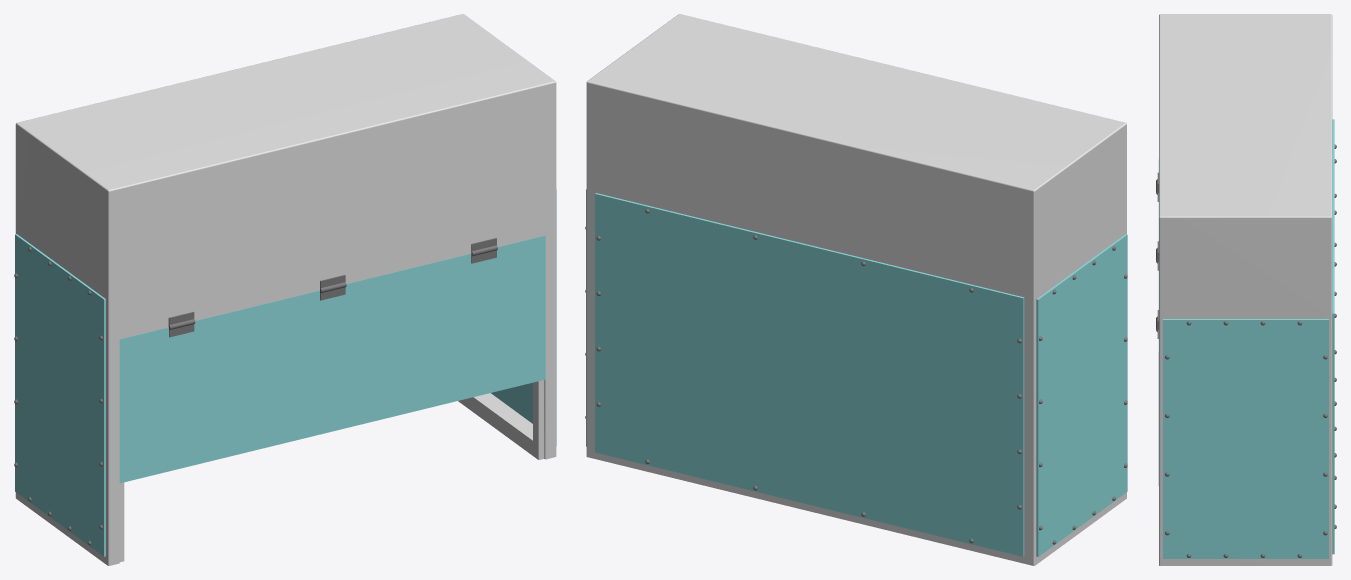
The model's file is S_Hotte.fbx.
3 views of the same model, side by side, from view 1: azimuth 30°, elevation 25°; view 2: azimuth 150°, elevation 25°; view 3: azimuth 270°, elevation 25° (orthographic). The views are drawn at different scales.
Visible parts, largest first — view 1: Cube.038, Cube.039, Cube.040; view 2: Cube.039, Cube.038; view 3: Cube.038, Cube.039, Sphere.001.
Part boxes in pixels (x1,y1,x2,y2): Cube.038: (15,14,556,565); Cube.039: (15,189,556,556); Cube.040: (168,238,497,337); Cube.039: (586,189,1127,556); Cube.038: (586,14,1126,565); Cube.038: (1159,14,1332,565); Cube.039: (1158,119,1334,558); Sphere.001: (1165,144,1336,557).
Size of the model in its own units: 255 by 200 by 93.89.
